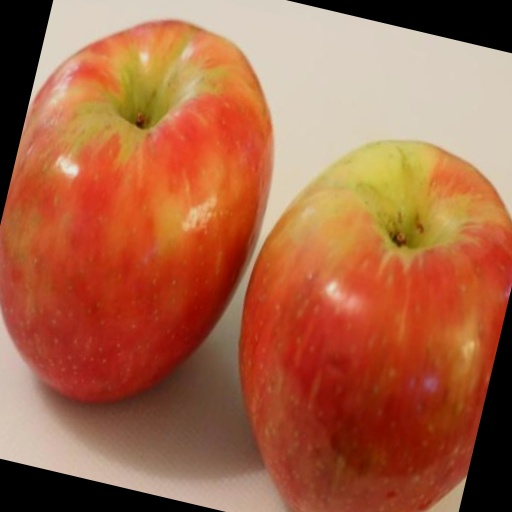fruit: (96, 86, 415, 405), (434, 251, 512, 512)
